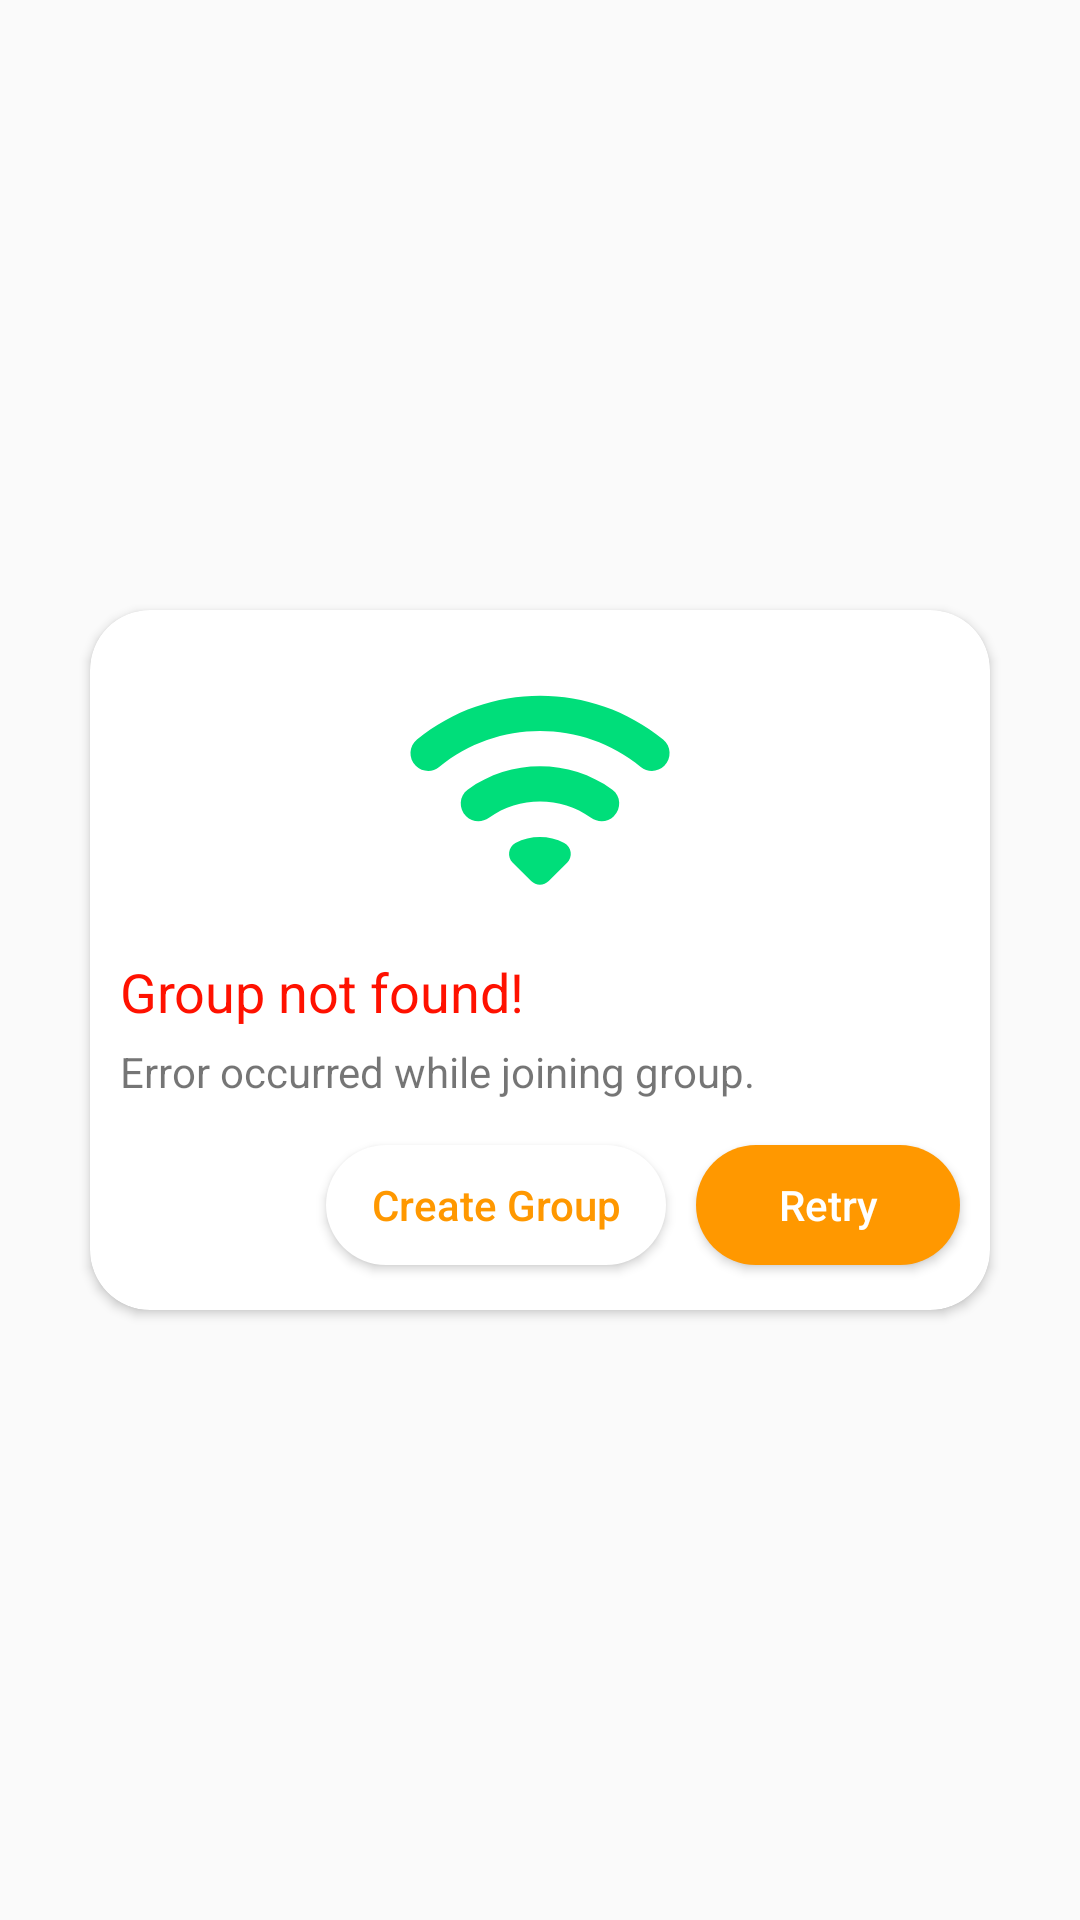

Icons on this 1080 × 1920 Android screen, each with the point to tap as point (x, y):
wifi: point (540, 790)
